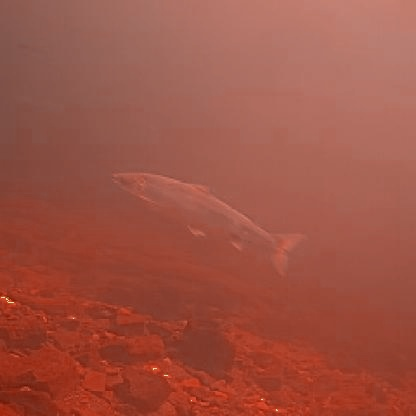salmon: (104, 164, 303, 276)
